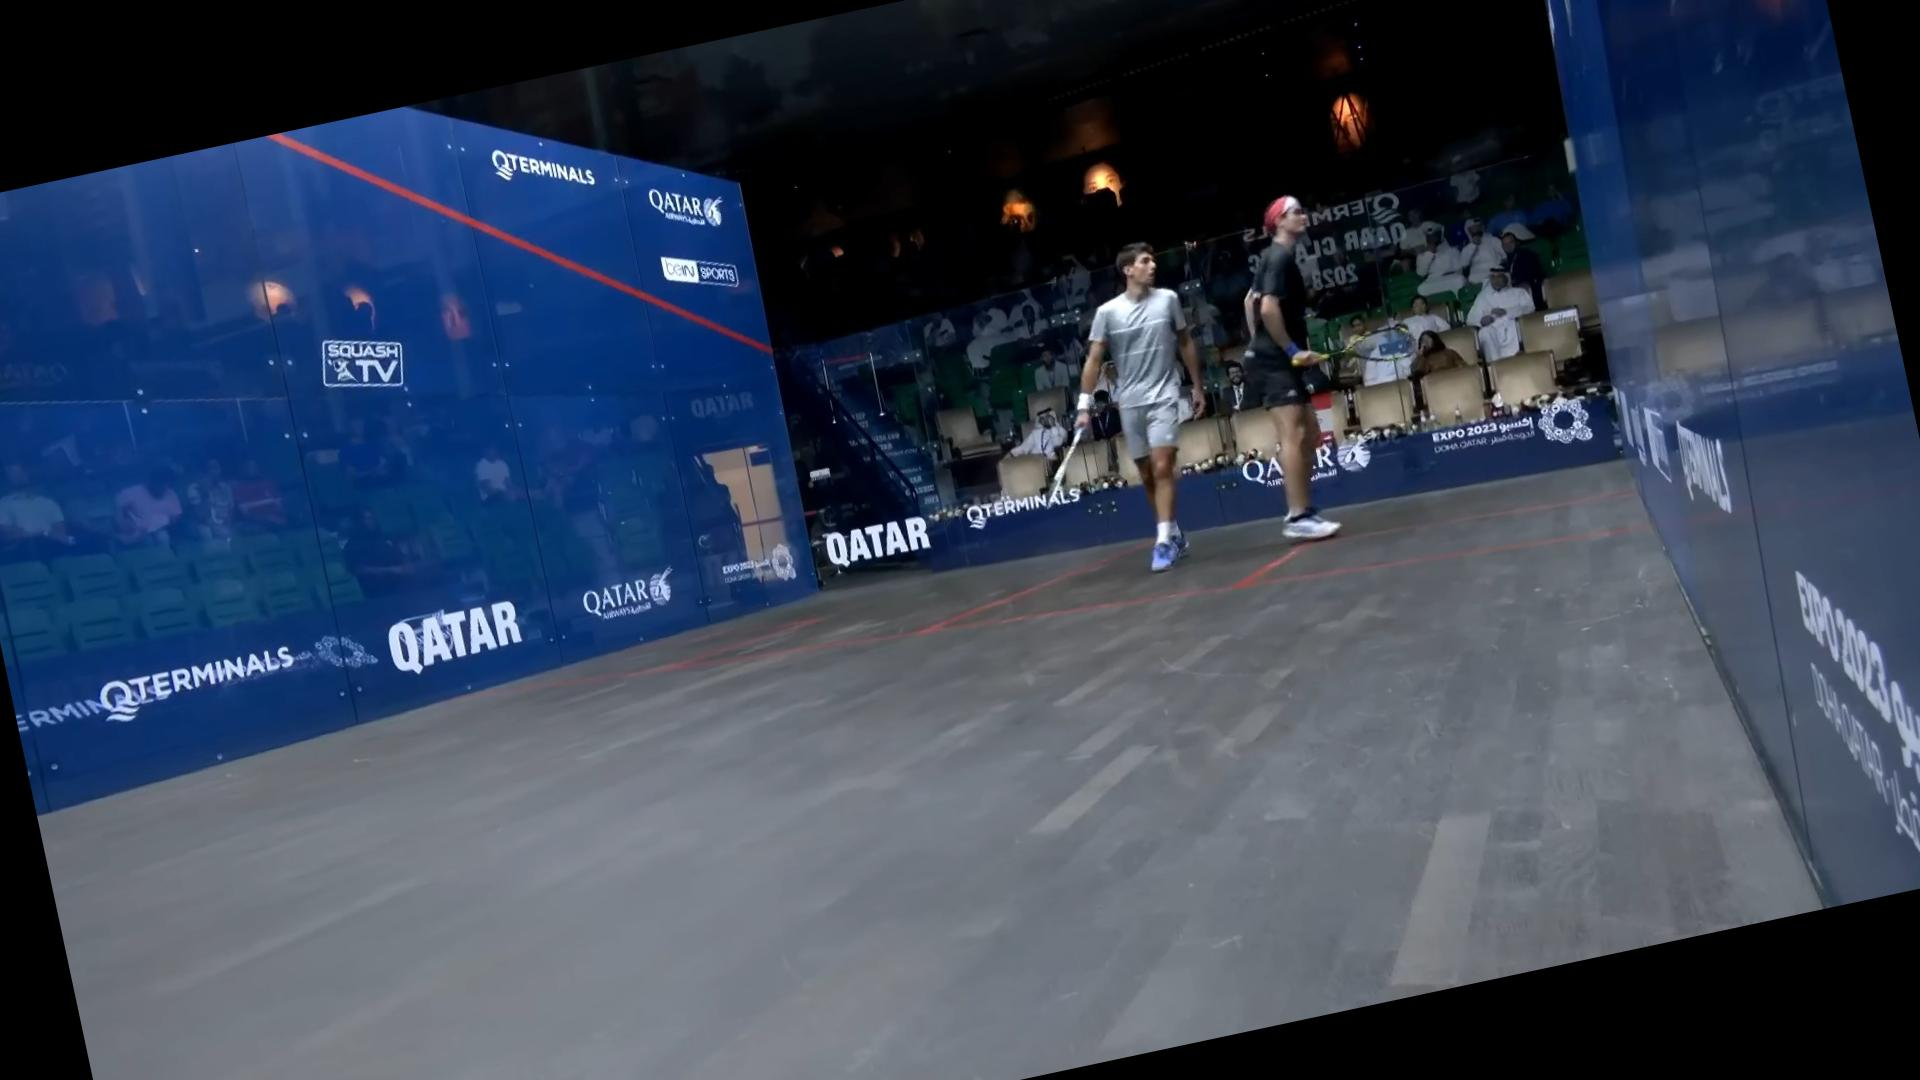Racket: (1323, 309, 1429, 389)
